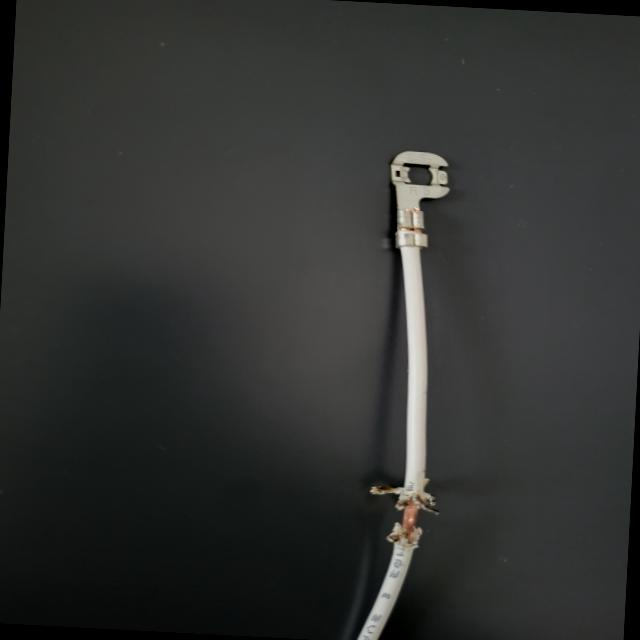defect: (298, 416, 505, 598)
